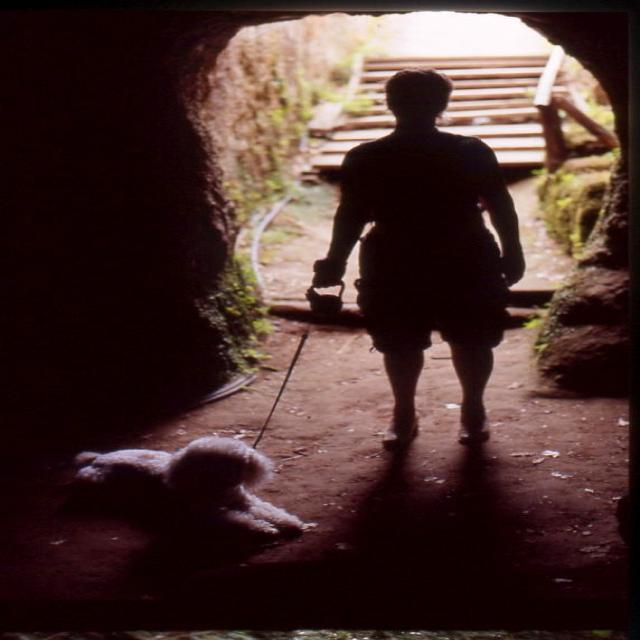People: (325, 50, 559, 470)
dog: (92, 408, 347, 579)
